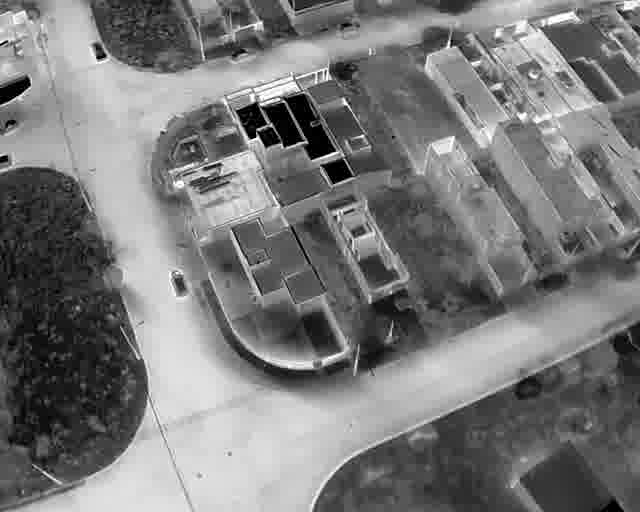car: (168, 268, 191, 300), (88, 39, 108, 62), (229, 46, 257, 62), (0, 117, 24, 135), (337, 19, 361, 34), (0, 152, 12, 169)
